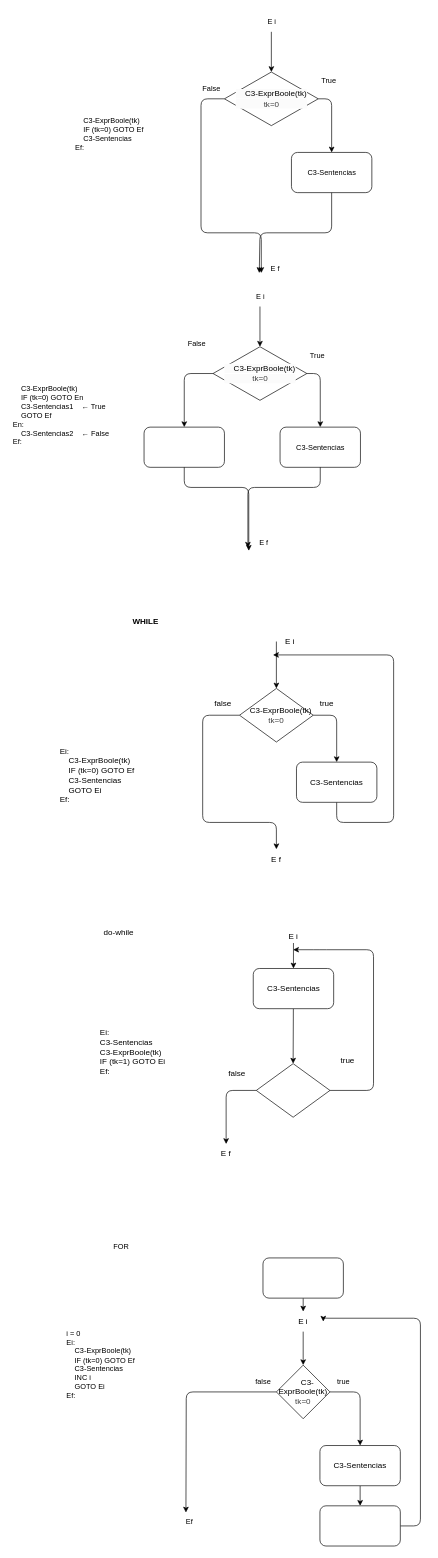
The diagram is 438 pixels wide and 1558 high, and some of its shapes have lost their labels. The centre of each missing label's shape, as x and y in pixels:
"C3-ExprBoole(tk) tk=1" goes at point (293, 1090).
"i = 0" goes at point (302, 1277).
"i++" goes at point (359, 1525).
